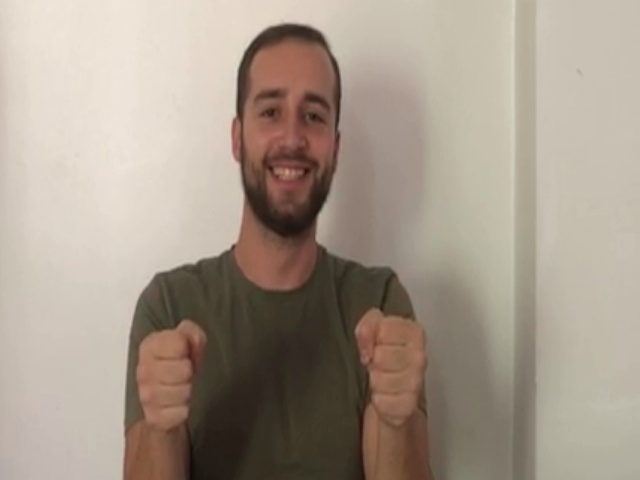Sili: (130, 301, 436, 434)
